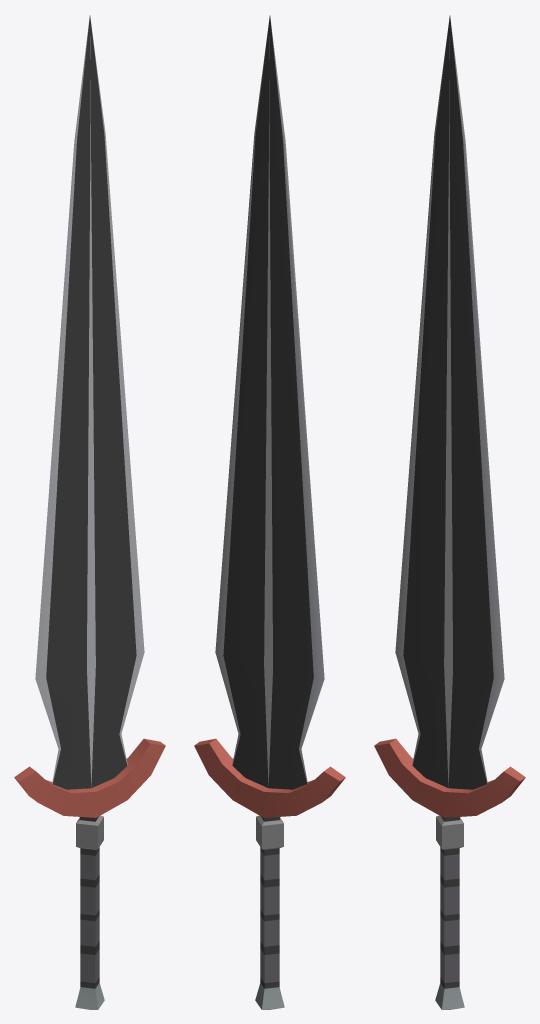
The model's file is Sword_9.fbx.
The picture shows the model from 3 angles, left to right: view 1: azimuth 30°, elevation 25°; view 2: azimuth 150°, elevation 25°; view 3: azimuth 330°, elevation 25°; orthographic projection.
Parts seen in each view (by area): view 1: polySurface474; view 2: polySurface474; view 3: polySurface474.
Boxes of the visible parts, bbox=[...] form: polySurface474: bbox=[14, 15, 165, 1009]; polySurface474: bbox=[194, 15, 345, 1009]; polySurface474: bbox=[374, 15, 525, 1009].
Size of the model in its own units: 71.78 by 467 by 13.92.
